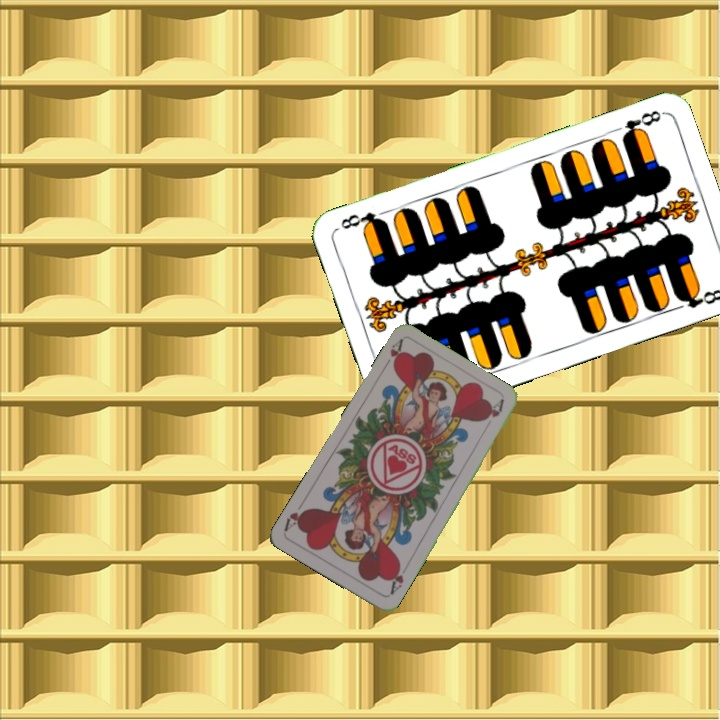E8: (617, 106, 665, 143)
HA: (385, 558, 411, 597), (379, 336, 406, 373)
